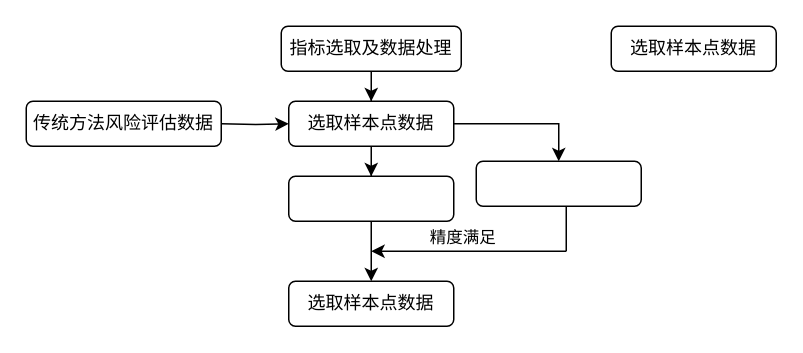
Image size: 803x353. Some labels were removed from this diagram. Each missing label, with the centre of its shape:
测试数据: the point at 558,183
训练样本: the point at 370,198
